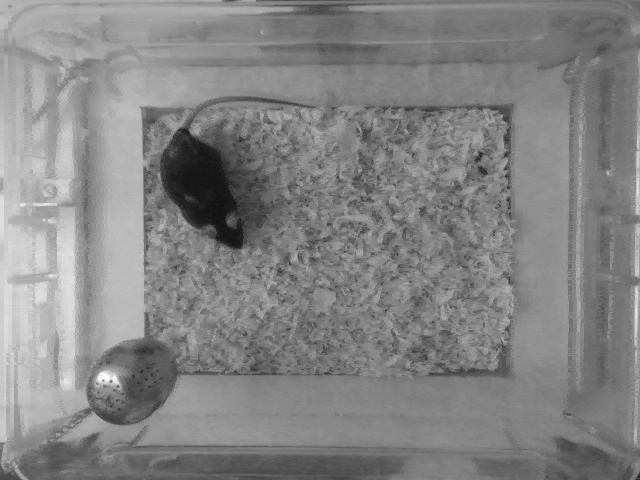mice: (159, 95, 318, 255)
